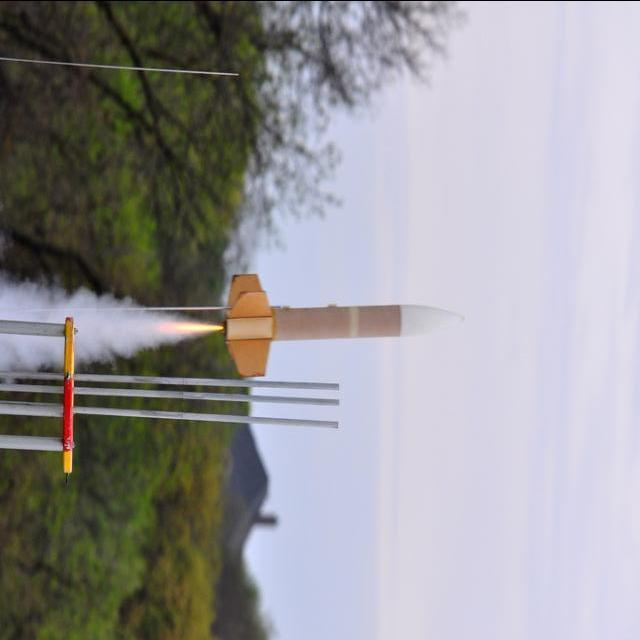missile: (220, 269, 470, 378), (56, 314, 82, 478)
